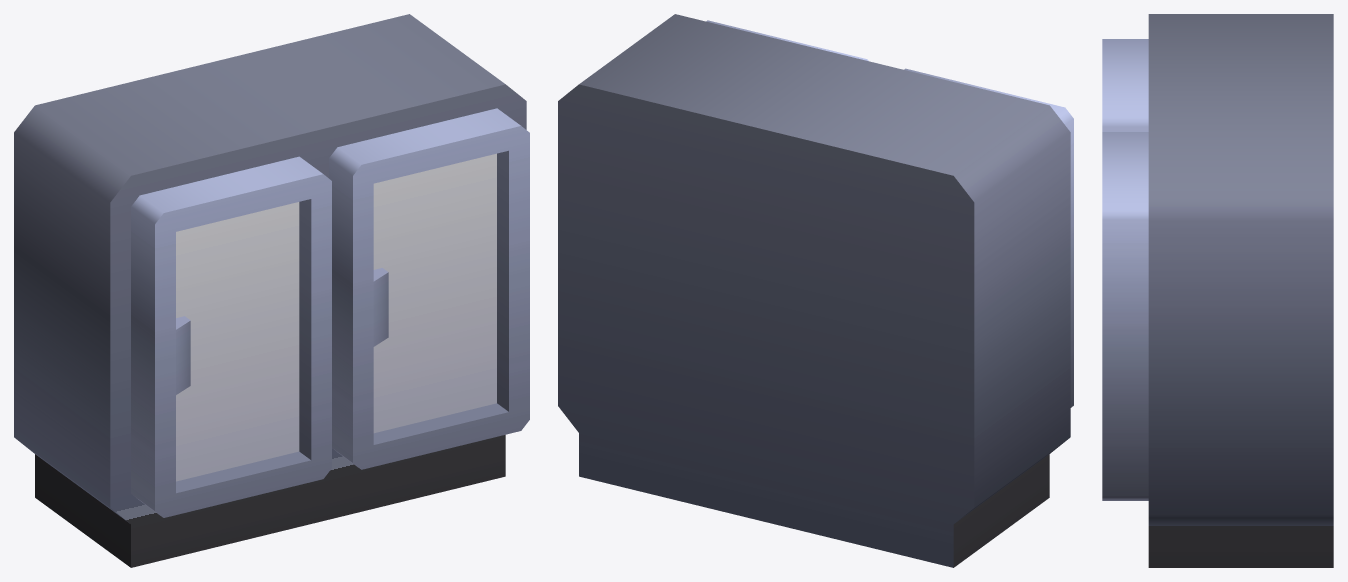
Rendered from freezers-standing.glb.
3 views of the same model, side by side, from view 1: azimuth 30°, elevation 25°; view 2: azimuth 150°, elevation 25°; view 3: azimuth 270°, elevation 25° (orthographic). The views are drawn at different scales.
Parts seen in each view (by area): view 1: freezers-standing; view 2: freezers-standing; view 3: freezers-standing.
Boxes of the visible parts, <box> form: freezers-standing: <box>14,14,529,567</box>; freezers-standing: <box>558,14,1073,567</box>; freezers-standing: <box>1102,14,1333,567</box>.
Bounding box in the file's own units: 1 × 0.9 × 0.5001.
1 material, 1 textured.
